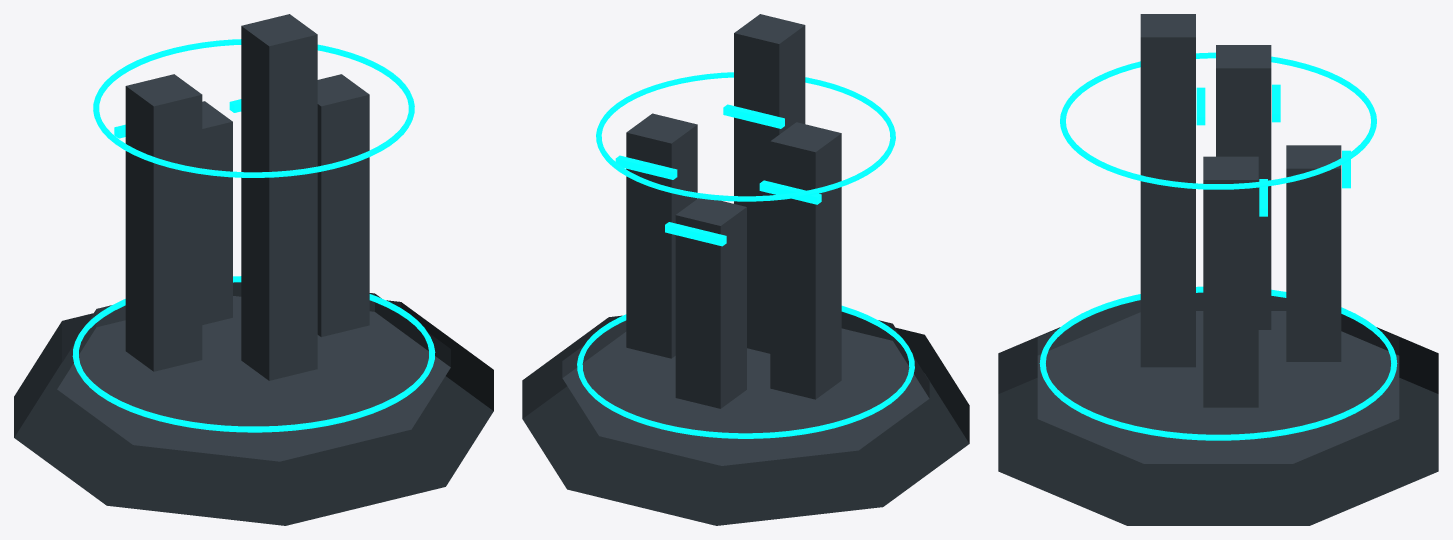
The model's file is district_knowledge.glb.
3 views of the same model, side by side, from view 1: azimuth 30°, elevation 25°; view 2: azimuth 150°, elevation 25°; view 3: azimuth 270°, elevation 25° (orthographic). The views are drawn at different scales.
Parts seen in each view (by area): view 1: district_knowledge_octagonal_base, district_knowledge_upper_plate, district_knowledge_archive_tower_1, district_knowledge_archive_tower_0, district_knowledge_archive_tower_2, district_knowledge_archive_tower_3, district_knowledge_observatory_orbit, district_knowledge_base_cyan_circuit; view 2: district_knowledge_octagonal_base, district_knowledge_upper_plate, district_knowledge_archive_tower_0, district_knowledge_archive_tower_3, district_knowledge_archive_tower_1, district_knowledge_archive_tower_2, district_knowledge_observatory_orbit, district_knowledge_base_cyan_circuit, district_knowledge_cyan_data_band_1, district_knowledge_cyan_data_band_3, district_knowledge_cyan_data_band_2, district_knowledge_cyan_data_band_0; view 3: district_knowledge_upper_plate, district_knowledge_octagonal_base, district_knowledge_archive_tower_1, district_knowledge_archive_tower_2, district_knowledge_archive_tower_3, district_knowledge_archive_tower_0, district_knowledge_base_cyan_circuit, district_knowledge_observatory_orbit.
Boxes of the visible parts, x1,y1,x2,y2 form: district_knowledge_octagonal_base: (14,300,493,525); district_knowledge_upper_plate: (57,282,450,461); district_knowledge_archive_tower_1: (241,14,317,380); district_knowledge_archive_tower_0: (125,74,202,371); district_knowledge_archive_tower_2: (317,74,369,336); district_knowledge_archive_tower_3: (202,101,232,324); district_knowledge_observatory_orbit: (93,39,414,177); district_knowledge_base_cyan_circuit: (72,276,435,432); district_knowledge_octagonal_base: (522,315,969,525); district_knowledge_upper_plate: (562,311,929,465); district_knowledge_archive_tower_0: (770,122,841,399); district_knowledge_archive_tower_3: (675,198,746,408); district_knowledge_archive_tower_1: (734,14,805,353); district_knowledge_archive_tower_2: (626,113,697,358); district_knowledge_observatory_orbit: (596,72,895,201); district_knowledge_base_cyan_circuit: (577,305,914,438); district_knowledge_cyan_data_band_1: (723,104,784,128); district_knowledge_cyan_data_band_3: (665,222,726,246); district_knowledge_cyan_data_band_2: (615,155,677,179); district_knowledge_cyan_data_band_0: (759,180,821,204); district_knowledge_upper_plate: (1037,292,1399,463); district_knowledge_octagonal_base: (998,327,1438,525); district_knowledge_archive_tower_1: (1140,14,1195,367); district_knowledge_archive_tower_2: (1203,156,1258,407); district_knowledge_archive_tower_3: (1286,145,1341,361); district_knowledge_archive_tower_0: (1216,45,1271,329); district_knowledge_base_cyan_circuit: (1039,286,1397,440); district_knowledge_observatory_orbit: (1060,52,1376,189).
Bounding box in the file's own units: 1.76 × 1.79 × 1.76.
